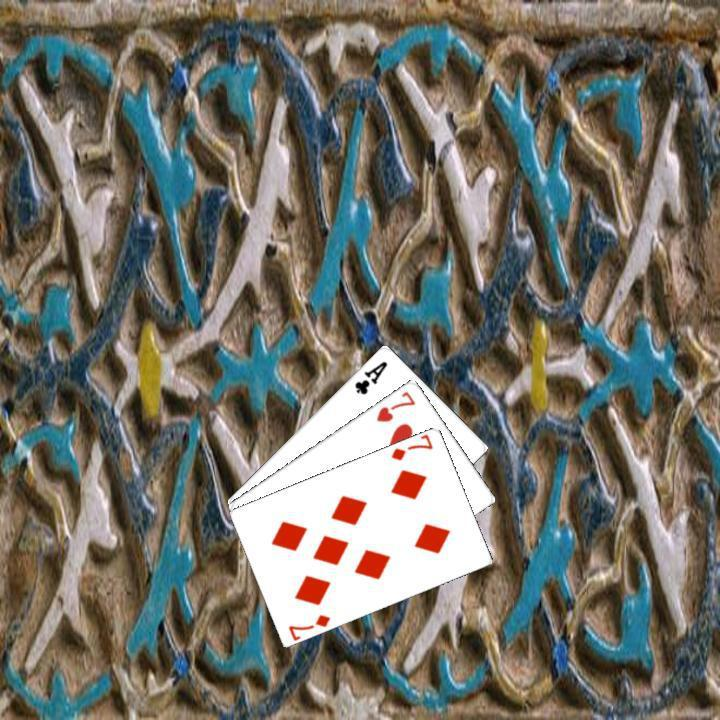7: (372, 386, 418, 424), (386, 431, 435, 462), (284, 609, 332, 640)
A: (350, 356, 390, 396)
